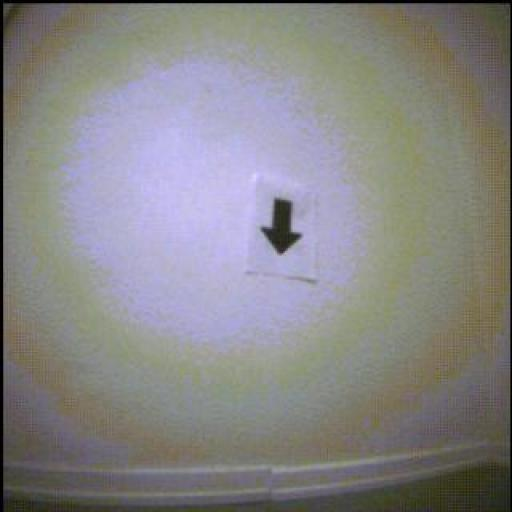Arrow: (262, 200, 303, 256)
